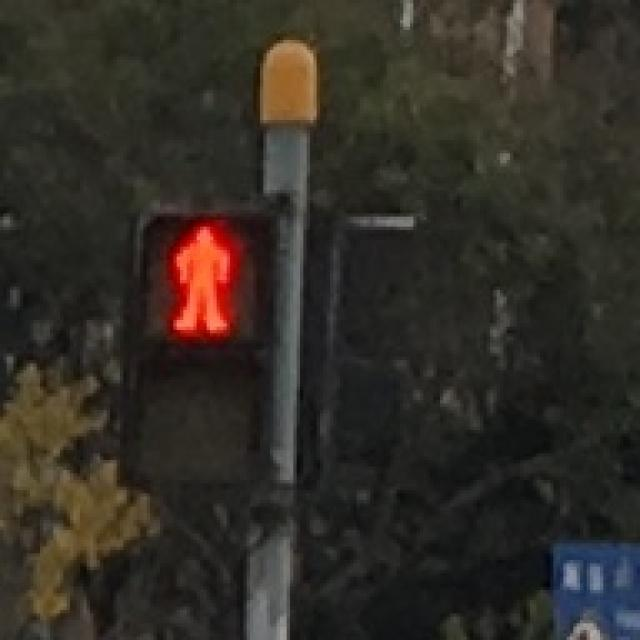red-crossing: (150, 213, 250, 340)
